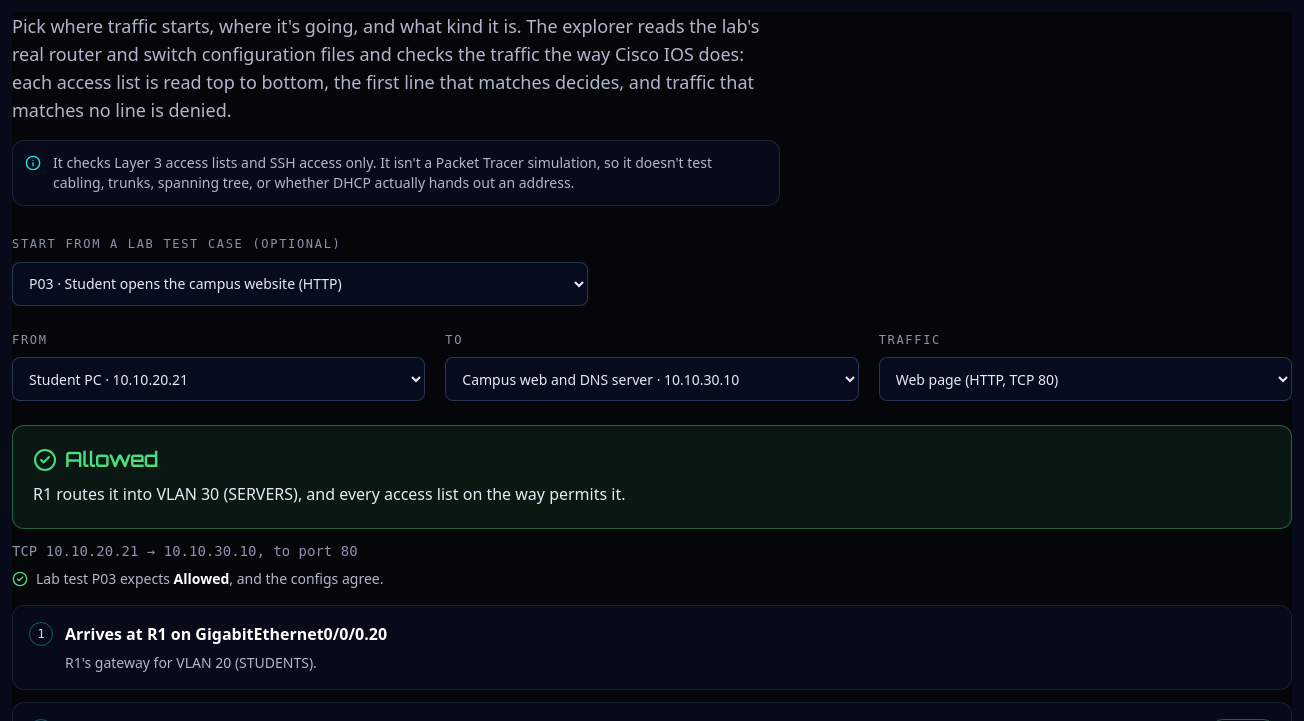
Scenario: policy explorer › explains which line blocks a lab case
Select "P07 · Student tries FTP on the server" in the dropdown labelled "Start from a lab test case (optional)" at point(300, 284), box [12,262,588,306]
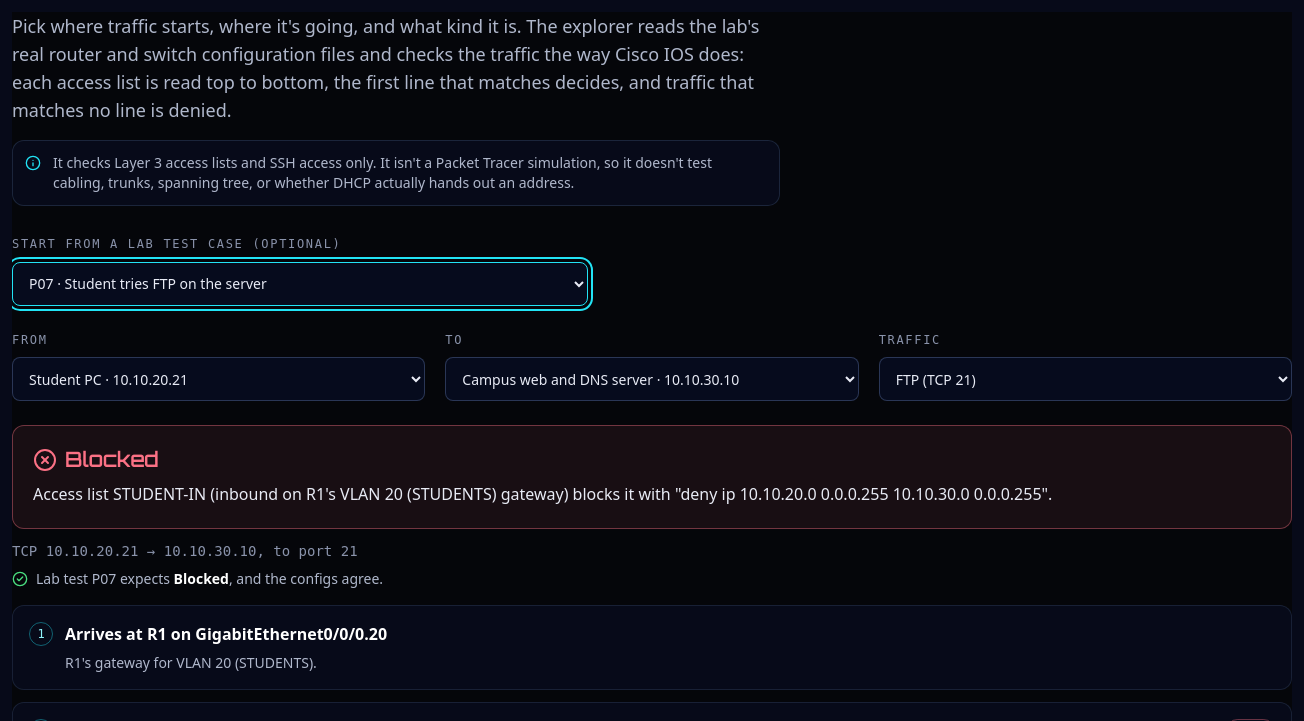
Check: the text "Blocked" is shown, box [33,447,158,472]
Check: the text "blocks it with" shows "Access list STUDENT-IN (inbound on R1's VLAN 20 (STUDENTS) gateway) blocks it with \"deny ip 10.10.20.0 0.0.0.255 10.10.30.0 0.0.0.255\".", box [33,483,1052,505]
Check: the text "TCP 10.10.20.21 → 10.10.30.10, to port 21" is shown, box [11,542,358,559]
